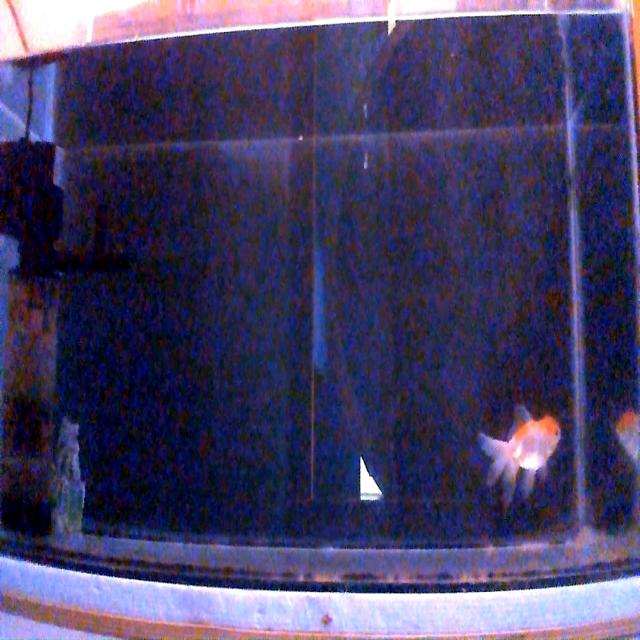fish: (479, 406, 562, 510), (614, 408, 640, 465)
